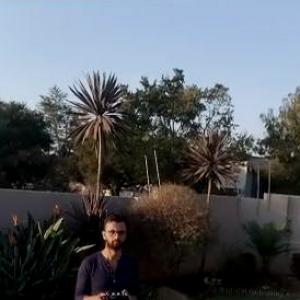follow: (72, 206, 148, 299)
